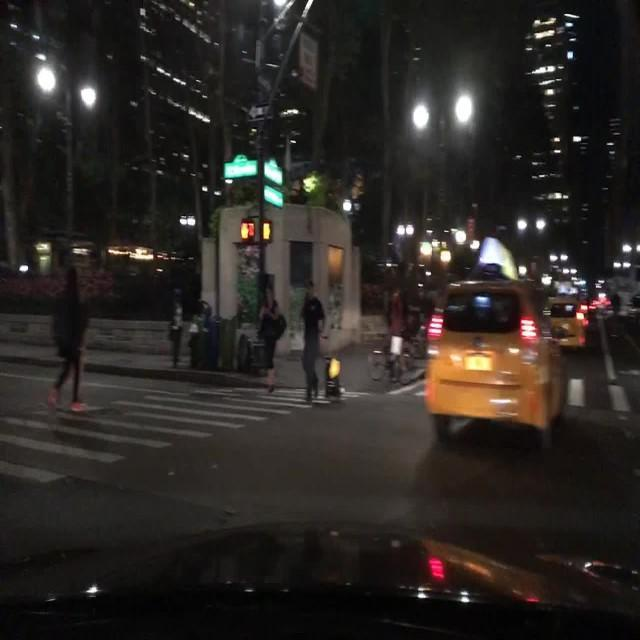normal: (422, 275, 562, 445), (541, 278, 600, 349)
